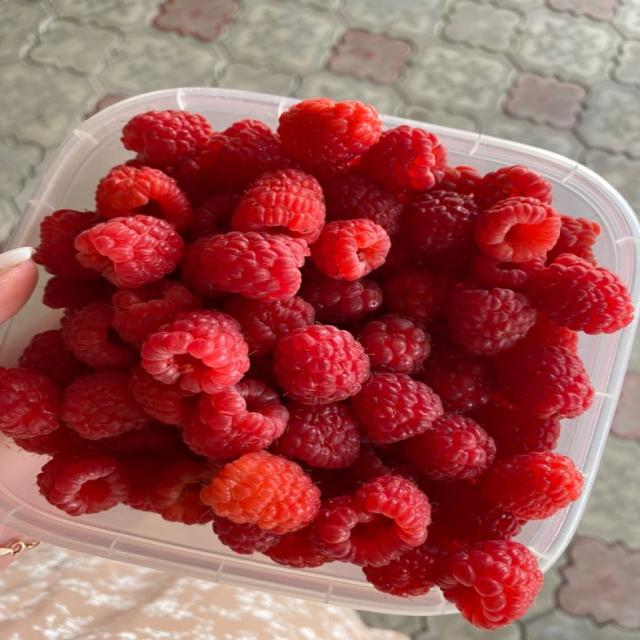raspberry: (314, 475, 430, 566), (201, 451, 319, 534), (436, 541, 542, 630), (141, 311, 248, 393), (183, 231, 309, 300), (527, 254, 633, 334), (182, 379, 288, 459), (76, 216, 184, 288), (274, 325, 369, 404), (420, 479, 524, 551), (497, 340, 593, 417), (278, 98, 381, 168), (480, 452, 583, 520), (232, 169, 325, 243), (201, 120, 297, 187), (351, 374, 443, 442), (60, 371, 151, 439), (96, 166, 192, 230), (113, 280, 202, 348), (405, 413, 495, 480), (447, 288, 536, 355), (271, 402, 359, 468), (38, 453, 129, 516), (360, 126, 446, 191), (475, 198, 560, 262), (225, 296, 315, 356), (419, 342, 495, 411), (323, 171, 403, 236), (401, 189, 480, 253), (121, 111, 211, 167), (34, 210, 103, 281), (311, 219, 391, 280), (300, 265, 382, 324), (62, 301, 133, 369), (473, 404, 559, 457), (337, 439, 418, 494), (363, 543, 444, 597), (149, 457, 213, 524), (360, 315, 430, 375), (0, 367, 59, 437), (129, 365, 196, 426), (20, 330, 89, 386), (384, 267, 450, 323), (114, 450, 173, 512), (474, 166, 551, 209), (164, 153, 220, 206), (180, 237, 227, 300), (88, 422, 186, 452), (264, 526, 332, 568), (473, 253, 545, 291), (547, 216, 600, 266), (213, 516, 280, 554), (414, 244, 479, 282), (14, 425, 92, 456), (43, 276, 116, 309), (189, 193, 239, 239), (374, 234, 425, 277), (526, 314, 578, 352), (303, 465, 359, 499), (348, 442, 393, 482), (246, 354, 282, 392), (436, 166, 482, 195)
